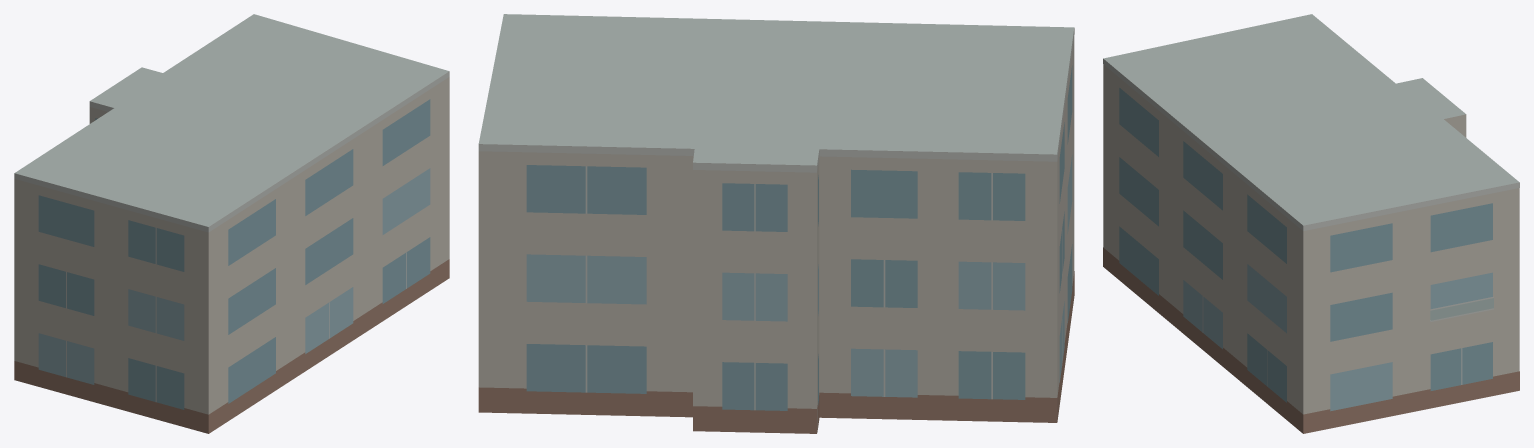
File: survey-upis-32704766.glb
The picture shows the model from 3 angles, left to right: view 1: azimuth 30°, elevation 25°; view 2: azimuth 150°, elevation 25°; view 3: azimuth 270°, elevation 25°; orthographic projection. The views are drawn at different scales.
Parts seen in each view (by area): view 1: survey-upis-32704766.tmp; view 2: survey-upis-32704766.tmp; view 3: survey-upis-32704766.tmp.
Boxes of the visible parts, x1=… form: survey-upis-32704766.tmp: x1=14, y1=14, x2=449, y2=433; survey-upis-32704766.tmp: x1=478, y1=14, x2=1074, y2=433; survey-upis-32704766.tmp: x1=1103, y1=14, x2=1519, y2=433.
Size of the model in its own units: 19.96 by 9.15 by 16.6.
